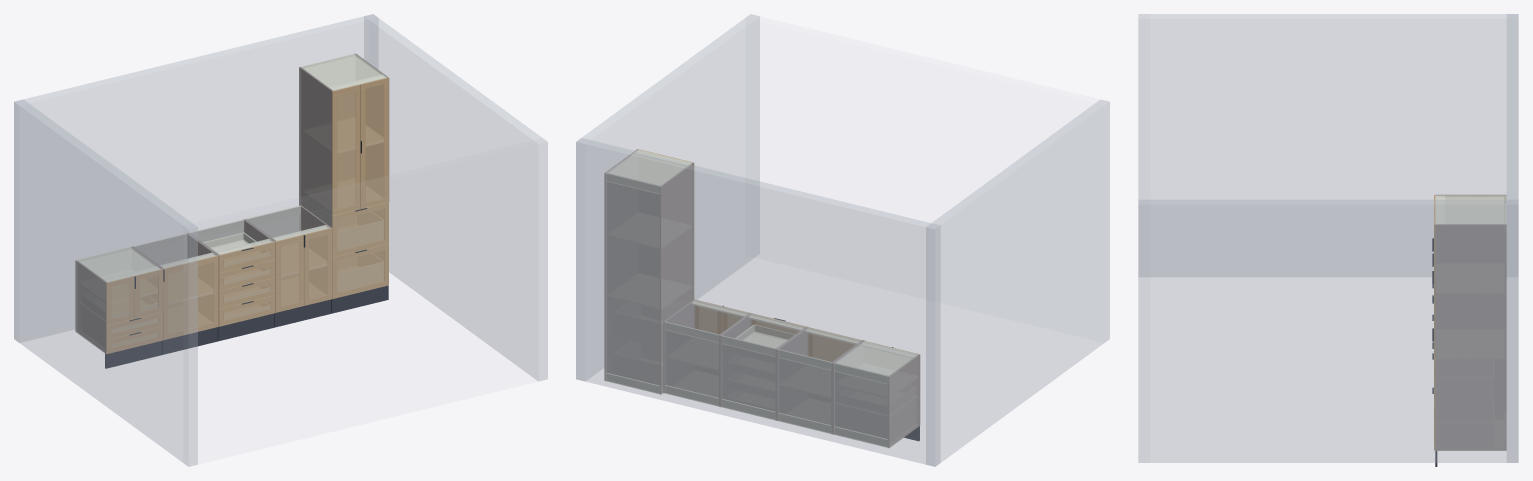
Rendered from GlbTest.glb.
The picture shows the model from 3 angles, left to right: view 1: azimuth 30°, elevation 25°; view 2: azimuth 150°, elevation 25°; view 3: azimuth 270°, elevation 25°; orthographic projection. The views are drawn at different scales.
Parts seen in each view (by area): view 1: Mesh (×3), Left (×2), Door_1 (×2), Upper_Door_1 (×2), Upper_Door_2 (×2), Kick_Plate (×5), Drawer_2 (×3), Drawer_1 (×3), Top_Solid_Cap (×2), Backplane (×3), Door_2, Drawer_4 (+7 smaller); view 2: Mesh (×3), Backplane (×5), Left (×2), Top_Solid_Cap (×2), Right (×3), Door_1, Door_2, Drawer_4; view 3: Mesh (×3), Right, Top_Solid_Cap.
Part boxes in pixels (<box>): Mesh (×3): <box>14,14,547,466</box>; Left (×2): <box>75,67,332,353</box>; Door_1 (×2): <box>163,235,303,339</box>; Upper_Door_1 (×2): <box>106,84,360,325</box>; Upper_Door_2 (×2): <box>135,77,388,317</box>; Kick_Plate (×5): <box>105,285,388,368</box>; Drawer_2 (×3): <box>106,202,388,339</box>; Drawer_1 (×3): <box>106,244,388,353</box>; Top_Solid_Cap (×2): <box>78,54,386,281</box>; Backplane (×3): <box>135,206,300,265</box>; Door_2: <box>304,228,331,305</box>; Drawer_4: <box>218,241,274,272</box>; Mesh (×3): <box>576,14,1109,466</box>; Backplane (×5): <box>607,173,887,445</box>; Left (×2): <box>659,162,919,447</box>; Top_Solid_Cap (×2): <box>607,150,917,375</box>; Right (×3): <box>604,149,808,420</box>; Door_1: <box>807,327,860,361</box>; Door_2: <box>694,299,721,334</box>; Drawer_4: <box>751,313,806,338</box>; Mesh (×3): <box>1138,14,1518,462</box>; Right: <box>1435,224,1506,450</box>; Top_Solid_Cap: <box>1435,195,1504,224</box>.
Bounding box in the file's own units: 3.8 × 2.55 × 3.2.
